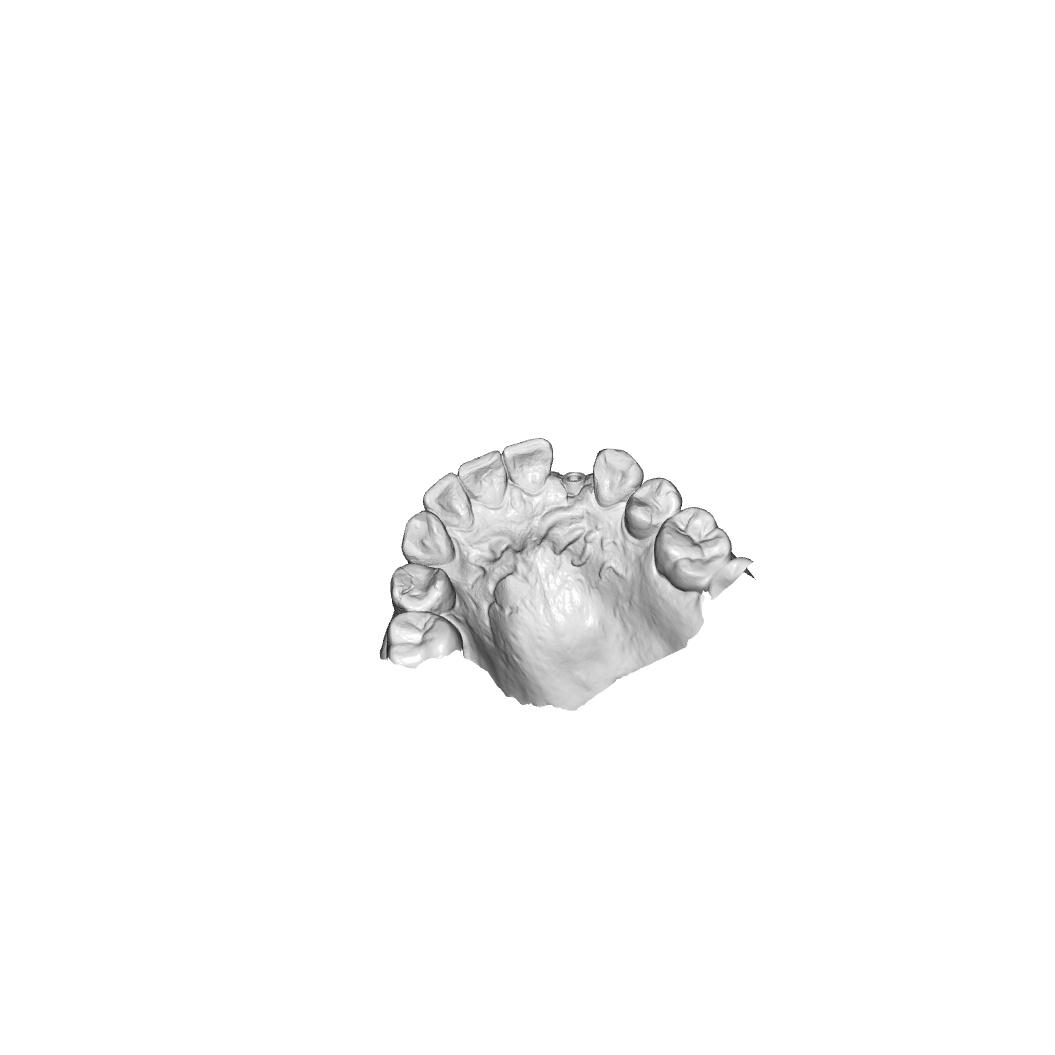canine: (592, 447, 645, 508), (401, 510, 457, 567)
implant: (561, 470, 588, 498)
incisor: (502, 437, 554, 496), (457, 450, 508, 509), (422, 471, 473, 529)
molar: (653, 506, 732, 593), (386, 610, 464, 667)
premolar: (623, 477, 683, 540), (390, 563, 457, 614)
